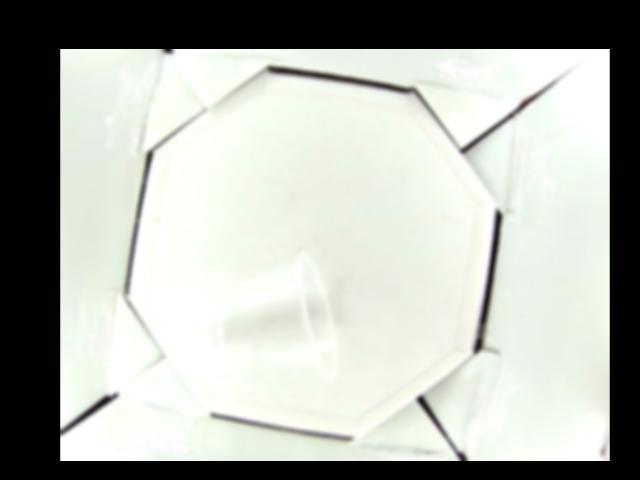Cup: (162, 250, 337, 382)
